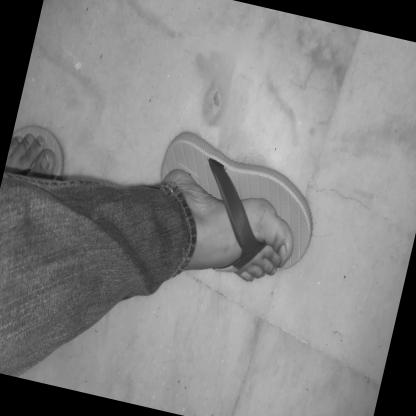ankle: (184, 207, 189, 213)
heel: (169, 174, 172, 177)
left_foot: (141, 128, 328, 295)
pinky: (249, 277, 252, 281)
toe: (289, 251, 292, 255)
